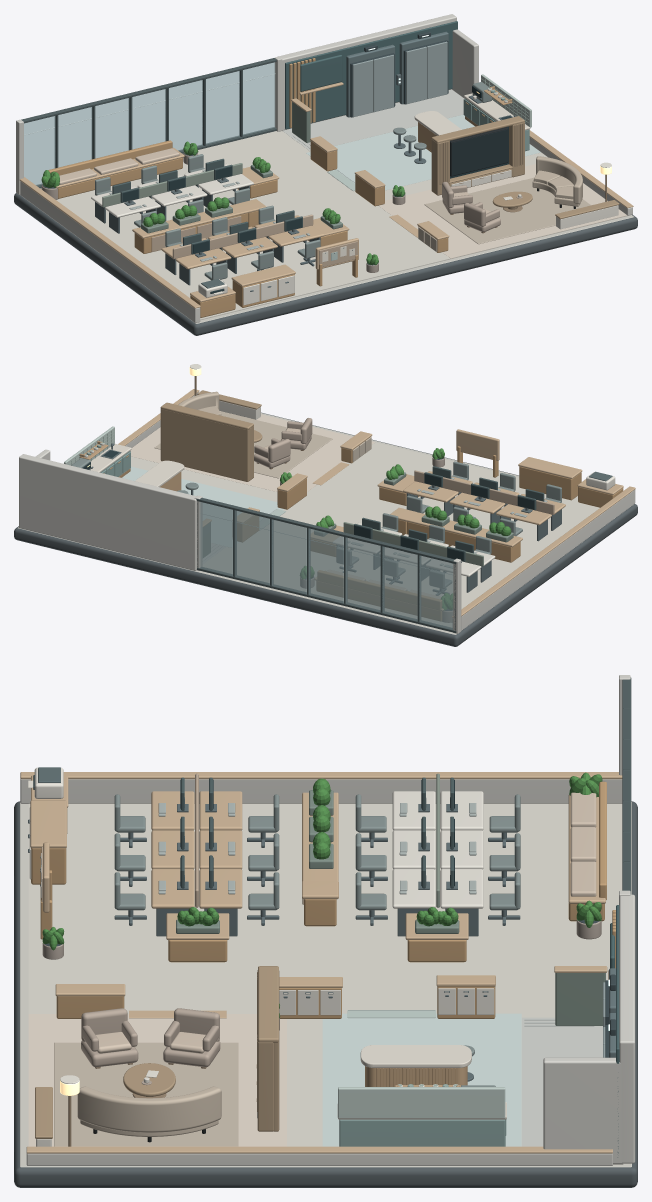
File: standard-floor.glb
The picture shows the model from 3 angles, top to bottom: view 1: azimuth 30°, elevation 25°; view 2: azimuth 150°, elevation 25°; view 3: azimuth 270°, elevation 25°; orthographic projection. The views are drawn at different scales.
Visible parts, largest first — view 1: OfficeSurface_15, OfficeSurface_14, OfficeSurface_01, OfficeSurface_20, OfficeSurface_31, OfficeSurface_24, OfficeOccluder_12, OfficeSurface_40, OfficeSurface_49, OfficeSurface_48, OfficeSurface_52, OfficeSurface_16 (+31 smaller); view 2: OfficeSurface_15, OfficeOccluder_12, OfficeSurface_01, OfficeSurface_14, OfficeSurface_20, OfficeSurface_52, OfficeOccluder_11, OfficeSurface_39, OfficeSurface_48, OfficeSurface_13, OfficeSurface_40, OfficeSurface_07 (+22 smaller); view 3: OfficeSurface_15, OfficeSurface_14, OfficeSurface_13, OfficeSurface_01, OfficeSurface_31, OfficeOccluder_12, OfficeSurface_40, OfficeSurface_49, OfficeSurface_20, OfficeSurface_39, OfficeSurface_48, OfficeSurface_44 (+15 smaller).
Part boxes in pixels (<box>): OfficeSurface_15: <box>41,131,628,320</box>; OfficeSurface_14: <box>19,82,633,308</box>; OfficeSurface_01: <box>14,193,637,335</box>; OfficeSurface_20: <box>48,58,448,317</box>; OfficeSurface_31: <box>91,88,618,305</box>; OfficeSurface_24: <box>352,41,447,117</box>; OfficeOccluder_12: <box>16,14,478,194</box>; OfficeSurface_40: <box>306,114,540,190</box>; OfficeSurface_49: <box>418,177,590,251</box>; OfficeSurface_48: <box>378,164,627,258</box>; OfficeSurface_52: <box>431,116,619,219</box>; OfficeSurface_16: <box>282,89,464,151</box>; OfficeSurface_15: <box>131,442,599,627</box>; OfficeOccluder_12: <box>19,449,461,633</box>; OfficeSurface_01: <box>14,412,637,646</box>; OfficeSurface_14: <box>118,389,635,617</box>; OfficeSurface_20: <box>237,436,623,621</box>; OfficeSurface_52: <box>160,390,262,481</box>; OfficeOccluder_11: <box>196,497,456,632</box>; OfficeSurface_39: <box>71,458,561,588</box>; OfficeSurface_48: <box>130,411,375,491</box>; OfficeSurface_13: <box>125,392,635,630</box>; OfficeSurface_40: <box>122,466,284,547</box>; OfficeSurface_07: <box>308,528,343,603</box>; OfficeSurface_15: <box>28,803,623,1164</box>; OfficeSurface_14: <box>20,772,622,1153</box>; OfficeSurface_13: <box>20,779,622,1165</box>; OfficeSurface_01: <box>14,801,637,1187</box>; OfficeSurface_31: <box>29,767,494,1146</box>; OfficeOccluder_12: <box>543,675,635,1163</box>; OfficeSurface_40: <box>322,1013,521,1146</box>; OfficeSurface_49: <box>54,1042,238,1146</box>; OfficeSurface_20: <box>31,781,615,1018</box>; OfficeSurface_39: <box>114,794,520,1086</box>; OfficeSurface_48: <box>28,1014,286,1146</box>; OfficeSurface_44: <box>338,1010,505,1118</box>.
Bounding box in the file's own units: 18.7 × 3.43 × 13.3.
